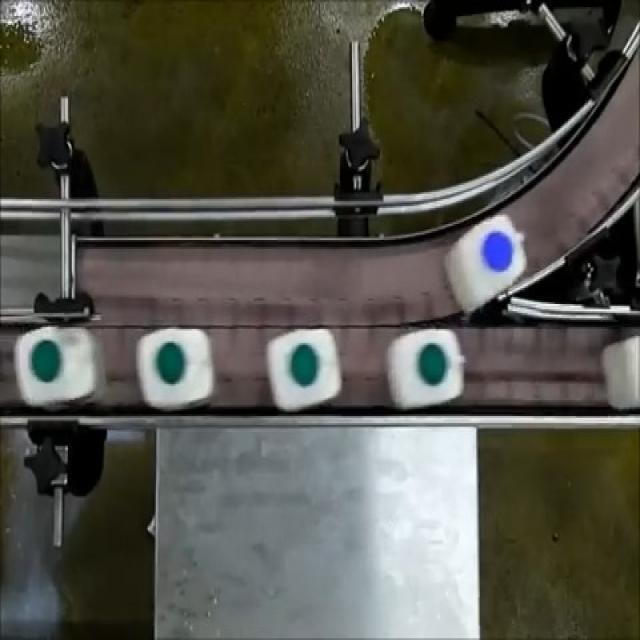blue: (434, 205, 534, 313)
green: (9, 321, 101, 413), (261, 325, 348, 416), (138, 324, 216, 414), (390, 333, 468, 407)
